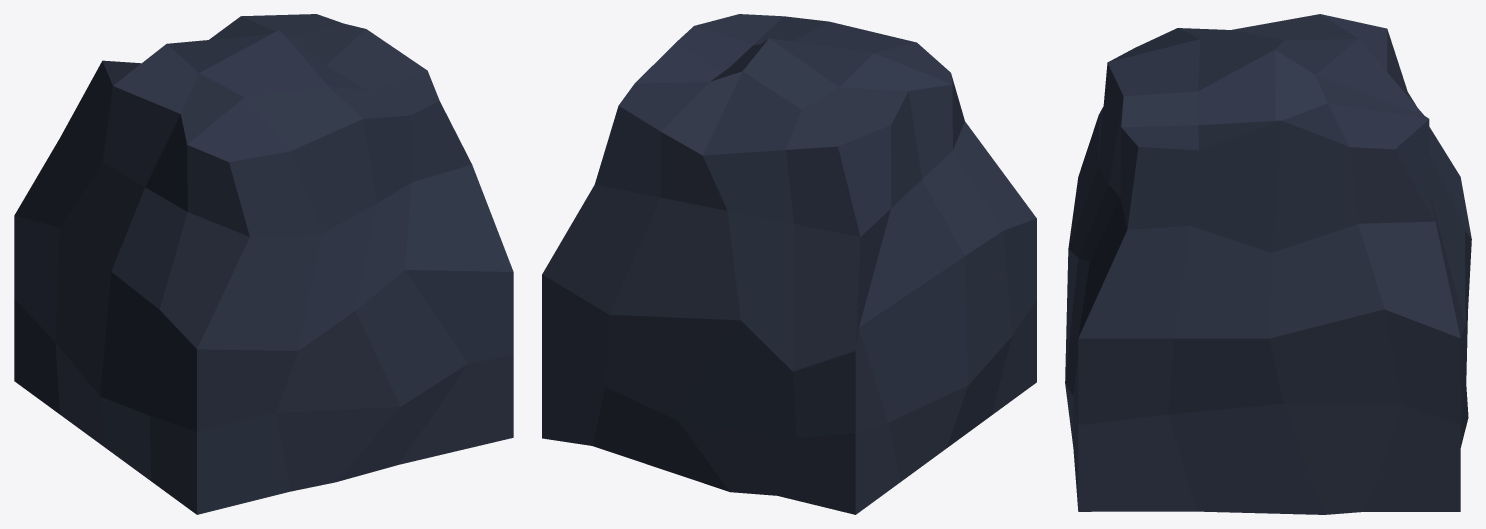
The model's file is rock1.glb.
3 renders of one model, left to right at view 1: azimuth 30°, elevation 25°; view 2: azimuth 150°, elevation 25°; view 3: azimuth 270°, elevation 25°, orthographic. The views are drawn at different scales.
Parts seen in each view (by area): view 1: Cube; view 2: Cube; view 3: Cube.
Part boxes in pixels (x1,y1,x2,y2): Cube: [14, 14, 513, 514]; Cube: [542, 14, 1036, 514]; Cube: [1065, 14, 1471, 514].
Size of the model in its own units: 2.1 by 2.28 by 2.13.
